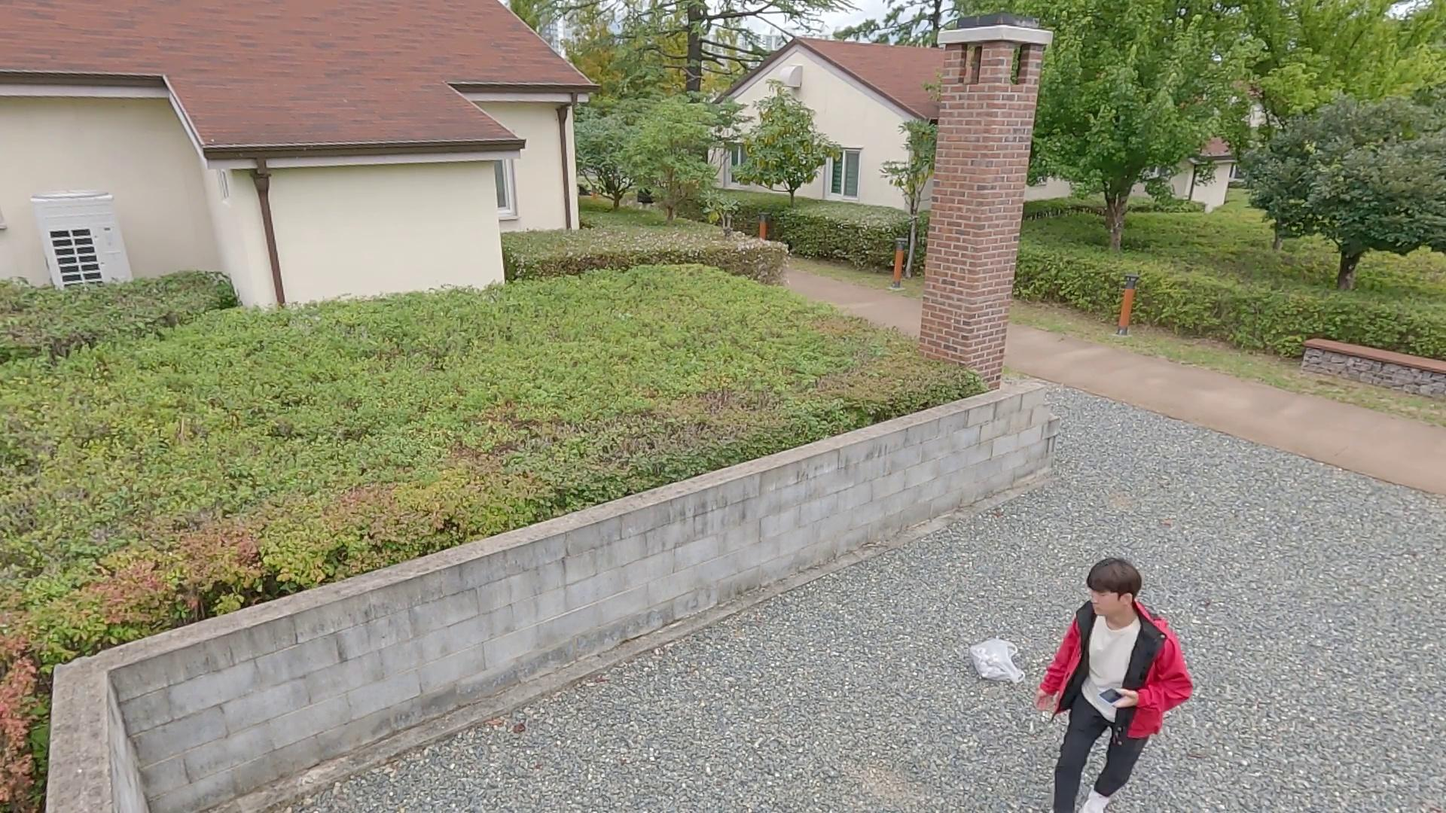person: (1032, 554, 1195, 813)
trash: (971, 636, 1028, 687)
